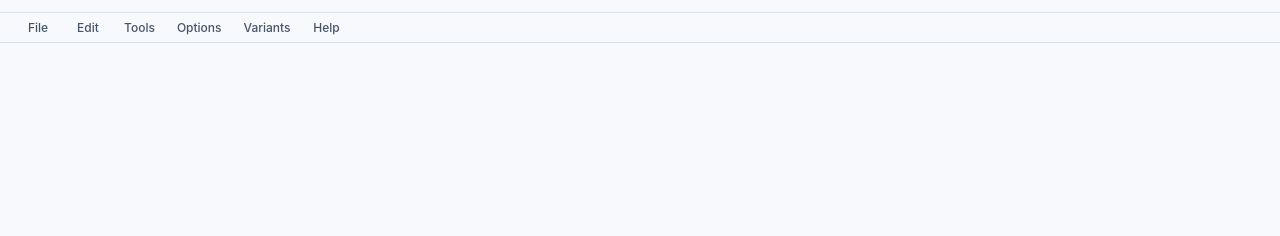
AppMenu › switches open top-level menus on hover without opening a closed menubar
Click the menu item "File": coordinates (38, 28) top-left (14, 13), bottom-right (62, 42)
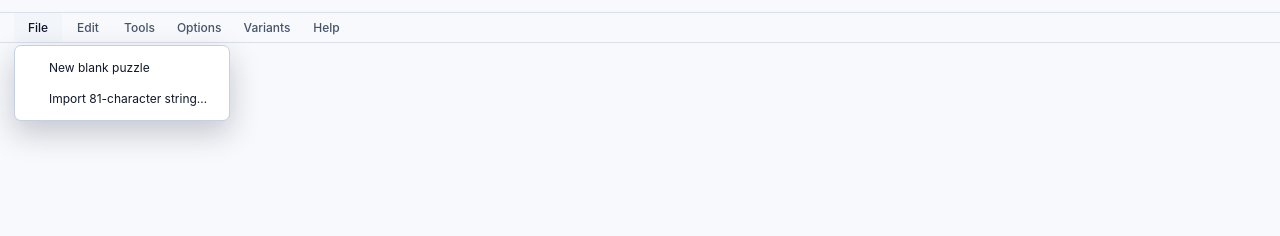
Now the menu item "File" is expanded, box top-left (14, 13), bottom-right (62, 42)
Hover over the menu item "Edit": coordinates (88, 28) top-left (64, 13), bottom-right (112, 42)
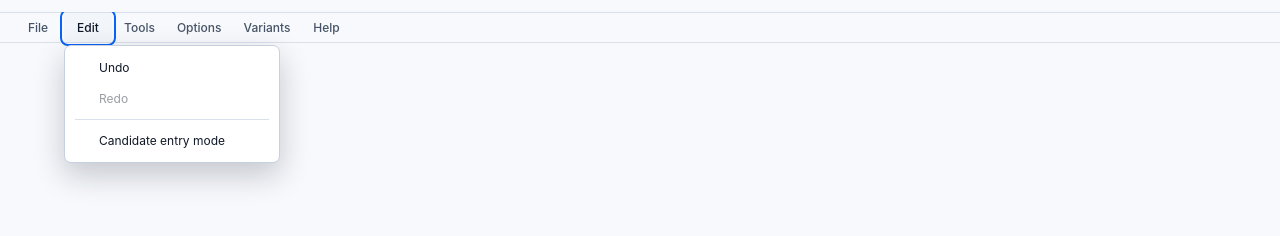
Now the menu item "File" is collapsed, box top-left (14, 13), bottom-right (62, 42)
Now the menu item "Edit" is expanded, box top-left (64, 13), bottom-right (112, 42)
Hover over the menu item "Tools": coordinates (139, 28) top-left (114, 13), bottom-right (165, 42)
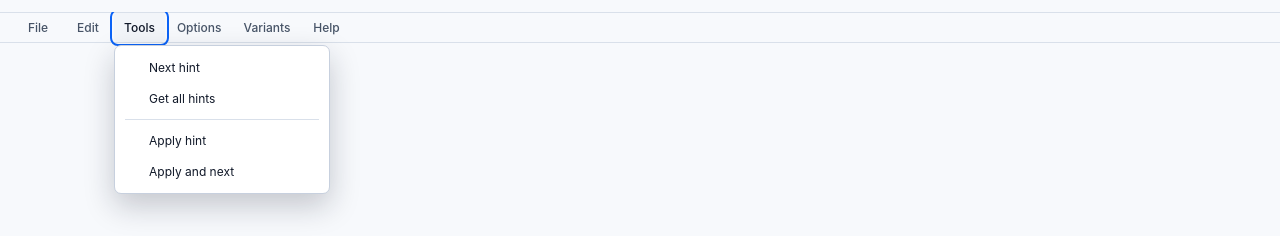
Now the menu item "Edit" is collapsed, box top-left (64, 13), bottom-right (112, 42)
Now the menu item "Tools" is expanded, box top-left (114, 13), bottom-right (165, 42)
